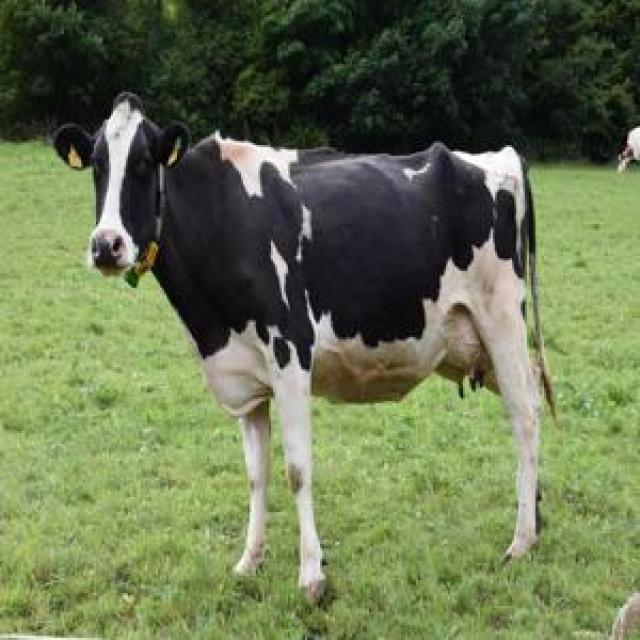cow: (55, 94, 545, 598)
